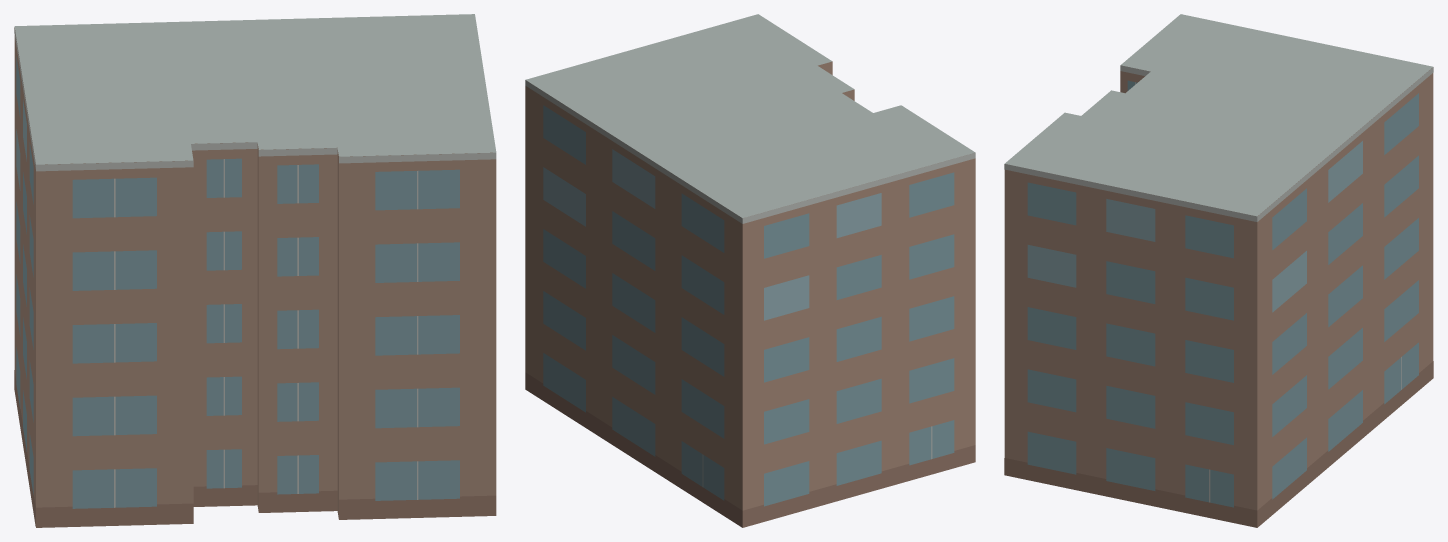
Rendered from survey-upis-32890132.glb.
The picture shows the model from 3 angles, left to right: view 1: azimuth 30°, elevation 25°; view 2: azimuth 150°, elevation 25°; view 3: azimuth 270°, elevation 25°; orthographic projection. The views are drawn at different scales.
Visible parts, largest first — view 1: survey-upis-32890132.tmp; view 2: survey-upis-32890132.tmp; view 3: survey-upis-32890132.tmp.
Boxes of the visible parts, left/top/right/bottom form: survey-upis-32890132.tmp: left=14, top=14, right=496, bottom=527; survey-upis-32890132.tmp: left=525, top=14, right=975, bottom=527; survey-upis-32890132.tmp: left=1004, top=14, right=1433, bottom=527.
Bounding box in the file's own units: 18.41 × 13.2 × 16.49.
